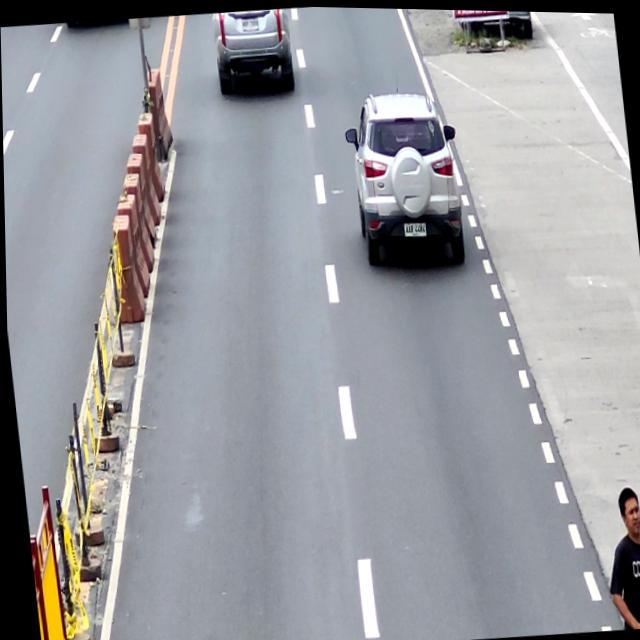Car: (341, 84, 470, 271), (210, 5, 297, 97)
License-Plate: (402, 218, 426, 237), (241, 16, 260, 31)
